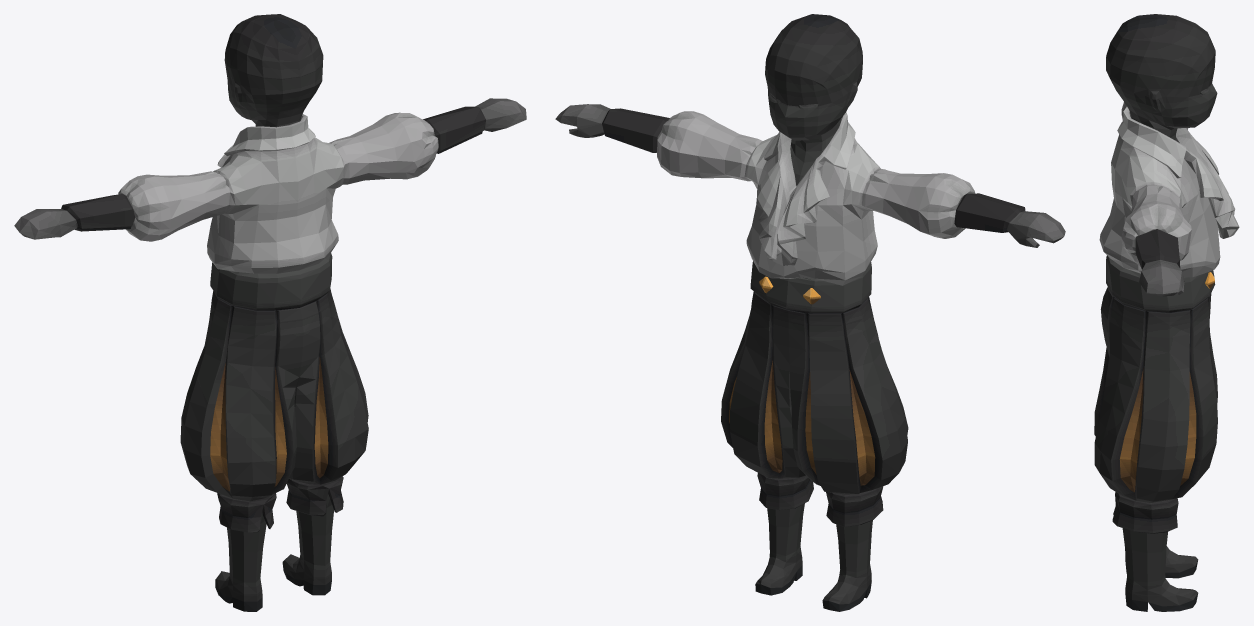
Rendered from CharSkyKid_Body_AP30RuffledShirt.glb.
3 renders of one model, left to right at view 1: azimuth 30°, elevation 25°; view 2: azimuth 150°, elevation 25°; view 3: azimuth 270°, elevation 25°, orthographic.
Visible parts, largest first — view 1: CharSkyKid_Body_AP30RuffledShirt; view 2: CharSkyKid_Body_AP30RuffledShirt; view 3: CharSkyKid_Body_AP30RuffledShirt.
Boxes of the visible parts, bbox=[...] form: CharSkyKid_Body_AP30RuffledShirt: bbox=[14, 14, 526, 611]; CharSkyKid_Body_AP30RuffledShirt: bbox=[555, 14, 1065, 611]; CharSkyKid_Body_AP30RuffledShirt: bbox=[1094, 14, 1239, 611].
Bounding box in the file's own units: 13.83 × 14.92 × 3.44.
Materials: 1 (1 with a texture image).
